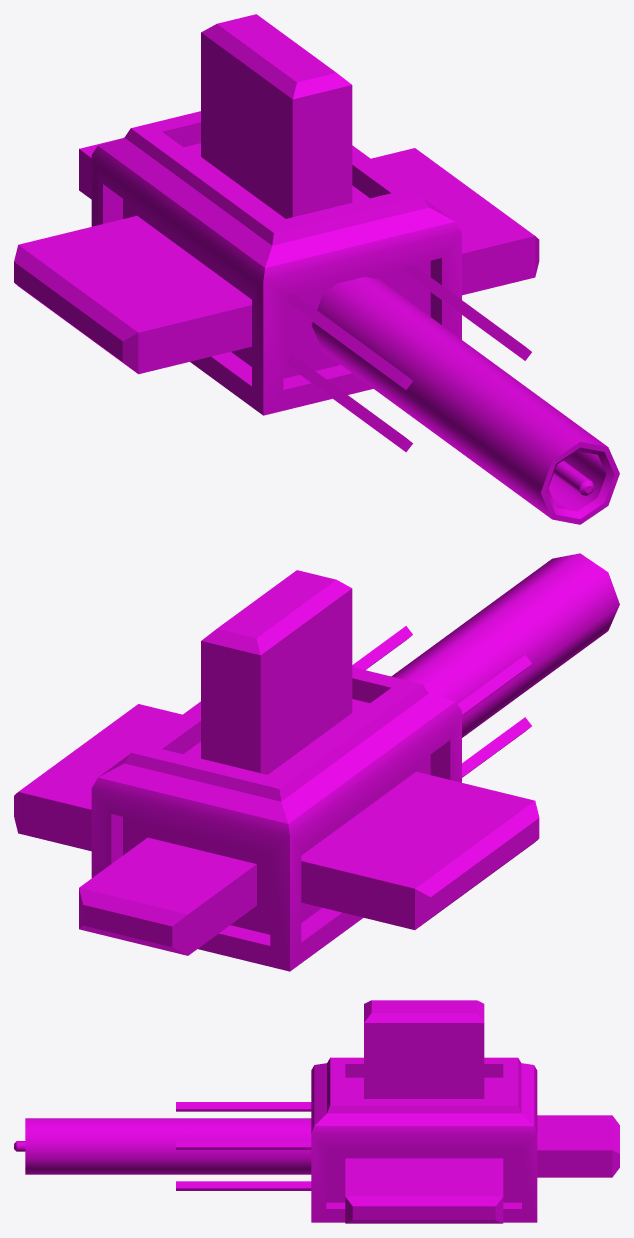
Rendered from new gun.fbx.
3 renders of one model, top to bottom at view 1: azimuth 30°, elevation 25°; view 2: azimuth 150°, elevation 25°; view 3: azimuth 270°, elevation 25°, orthographic. The views are drawn at different scales.
Visible parts, largest first — view 1: Turret_gun; view 2: Turret_gun; view 3: Turret_gun.
Part boxes in pixels (<box>): Turret_gun: <box>14,14,619,524</box>; Turret_gun: <box>14,553,619,971</box>; Turret_gun: <box>14,1000,619,1223</box>.
Size of the model in its own units: 0.42 by 0.27 by 0.805.
